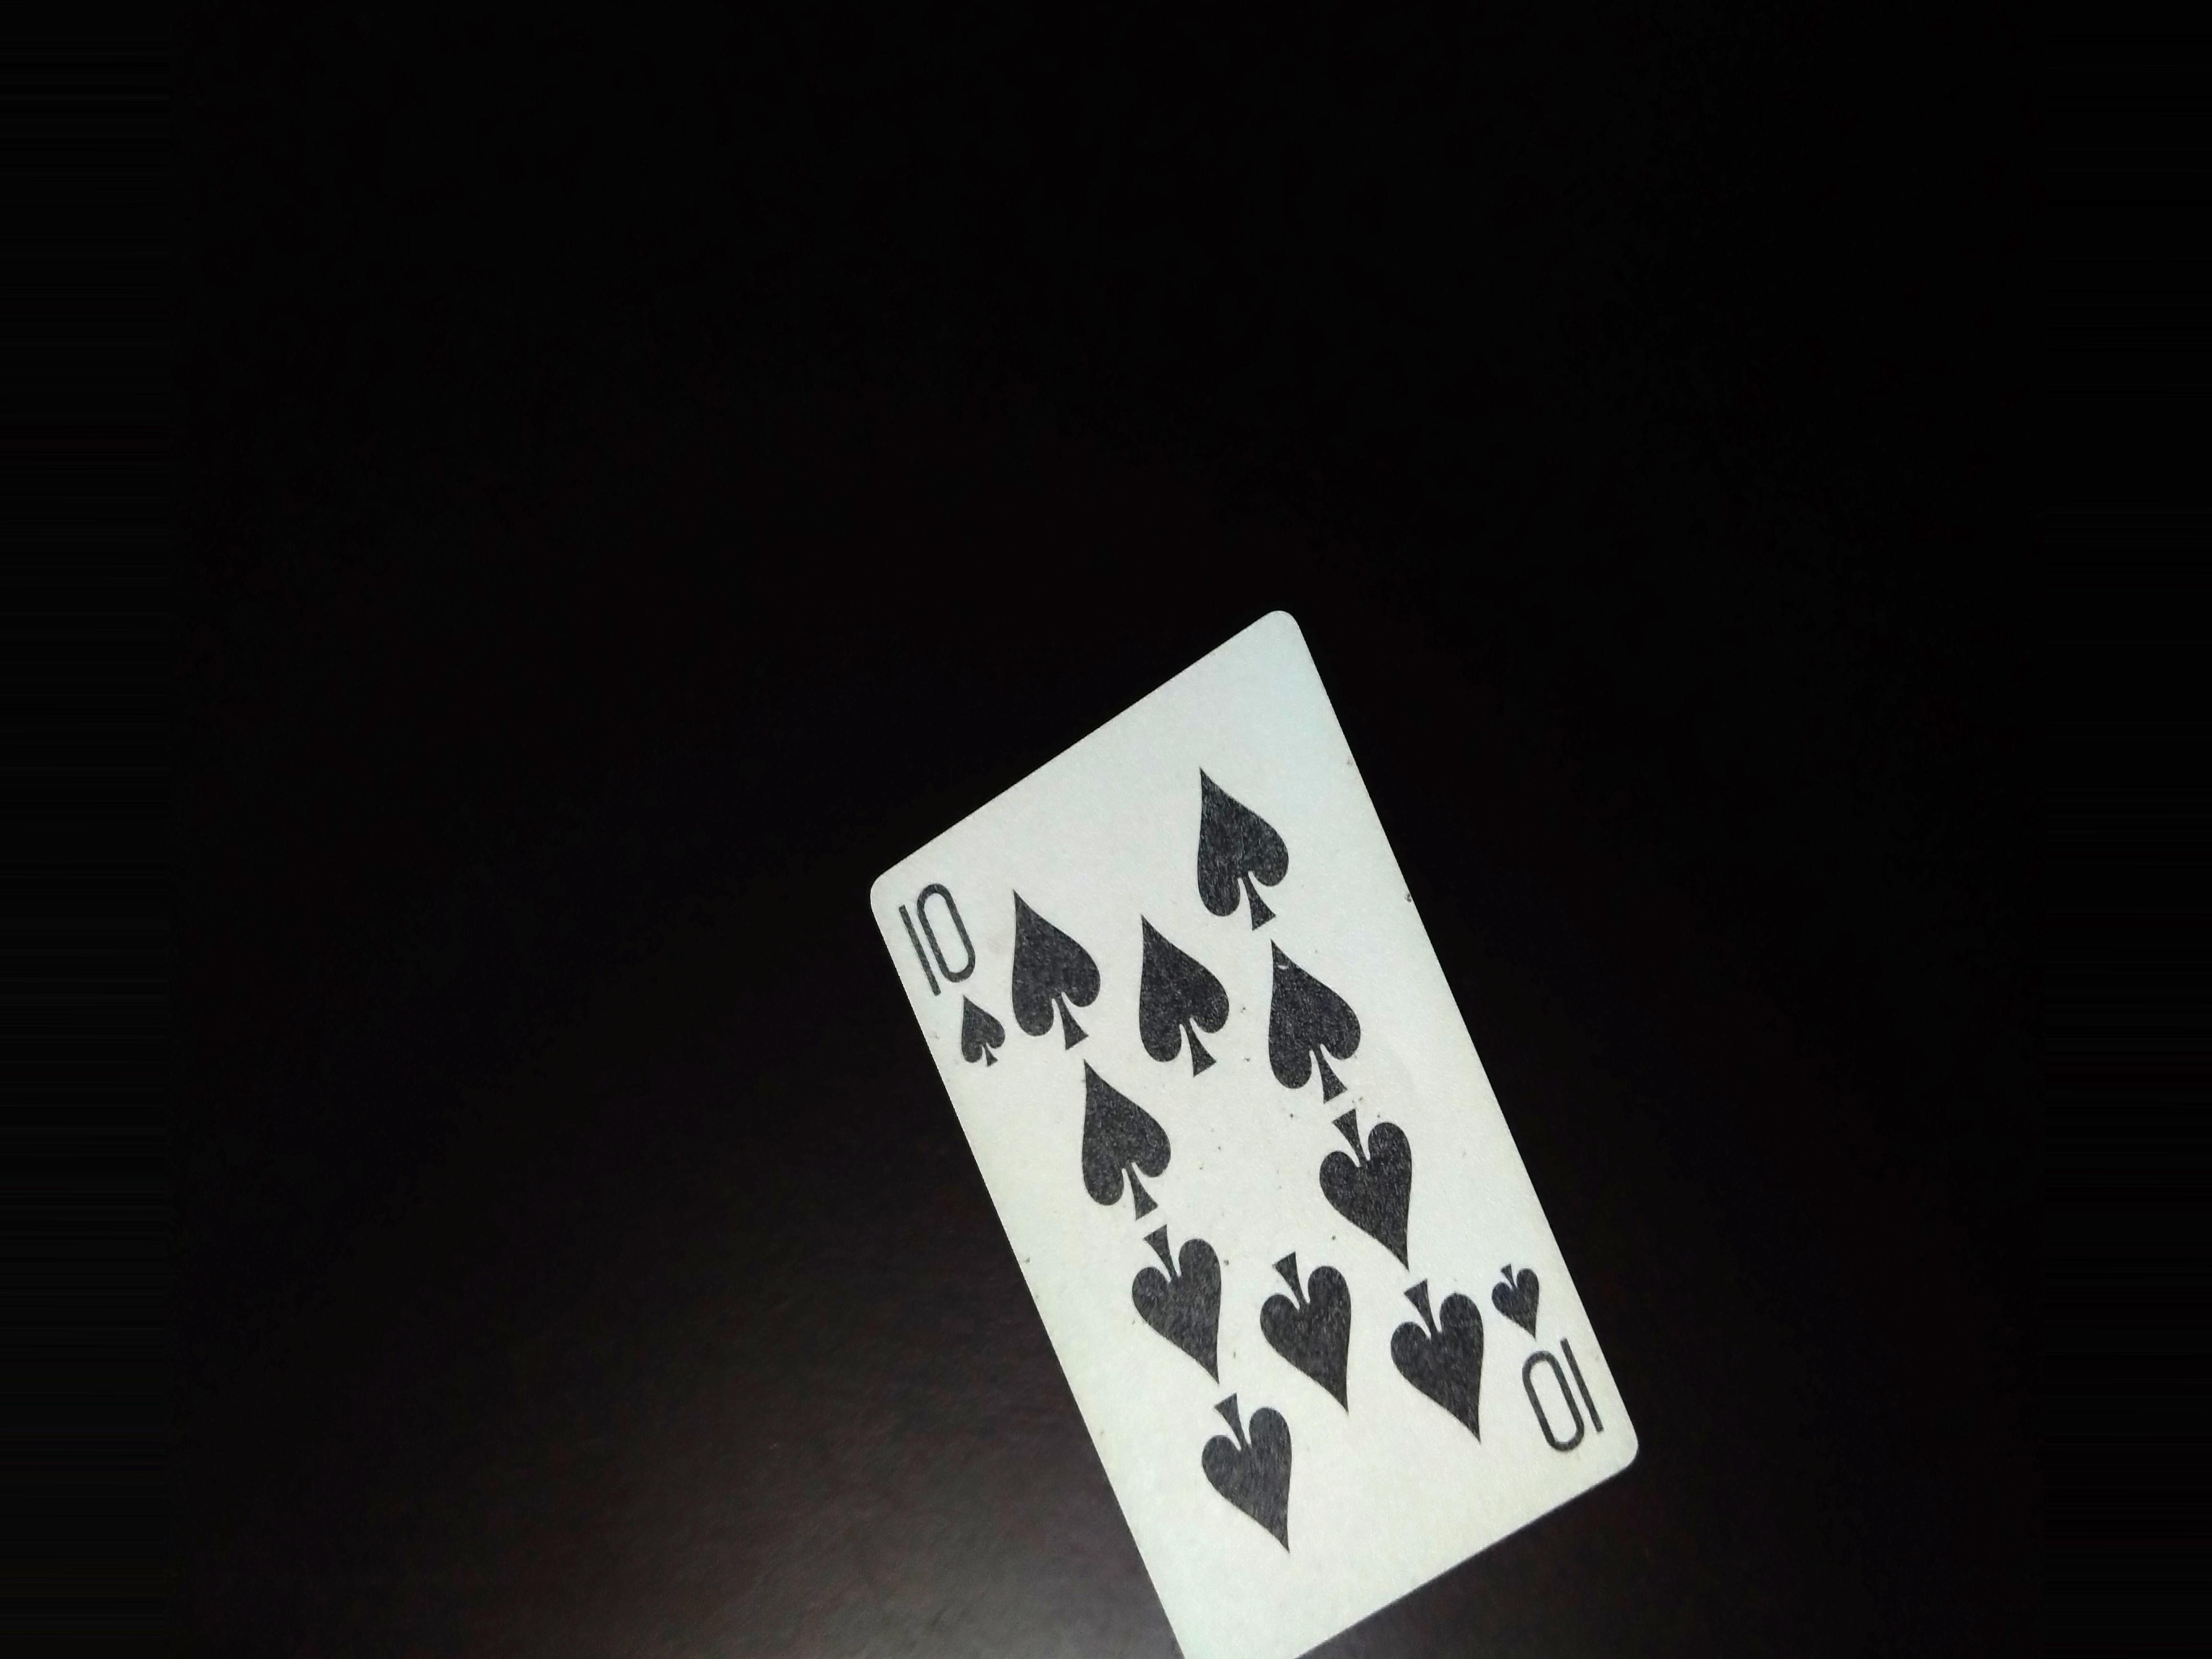10S: (885, 870, 1010, 1060)
